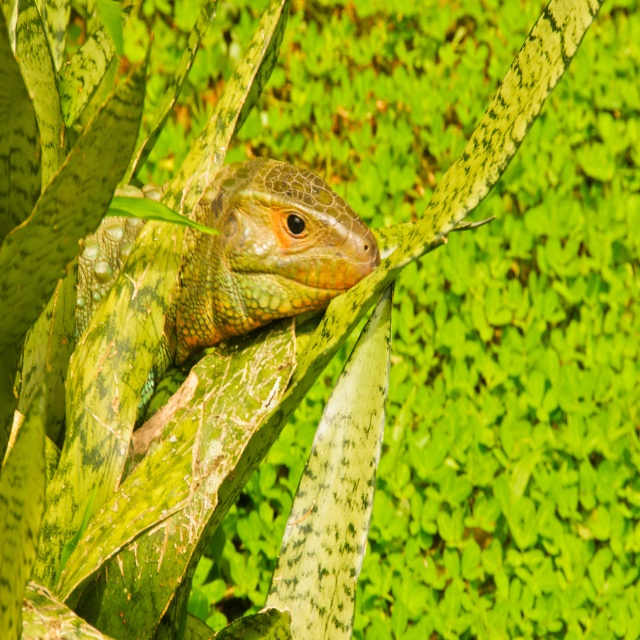Lizard: (101, 161, 396, 458)
